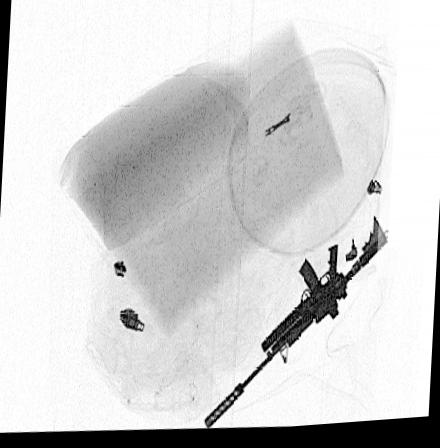Gun: (203, 220, 387, 430)
